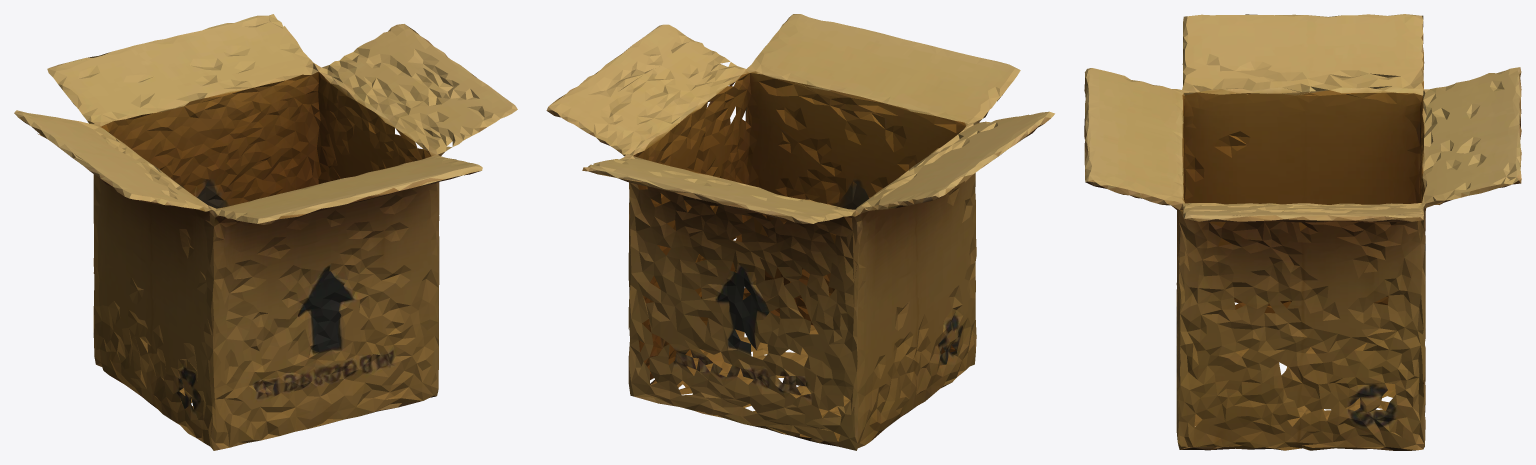
Rendered from prop_box_cardboard1.glb.
The picture shows the model from 3 angles, left to right: view 1: azimuth 30°, elevation 25°; view 2: azimuth 150°, elevation 25°; view 3: azimuth 270°, elevation 25°; orthographic projection. The views are drawn at different scales.
Visible parts, largest first — view 1: geometry_0.015; view 2: geometry_0.015; view 3: geometry_0.015.
Boxes of the visible parts, x1,y1,x2,y2 form: geometry_0.015: (14,14,517,450); geometry_0.015: (546,14,1054,450); geometry_0.015: (1084,14,1521,450).
Bounding box in the file's own units: 2.6 × 1.75 × 2.43.
Materials: 1 (1 with a texture image).
